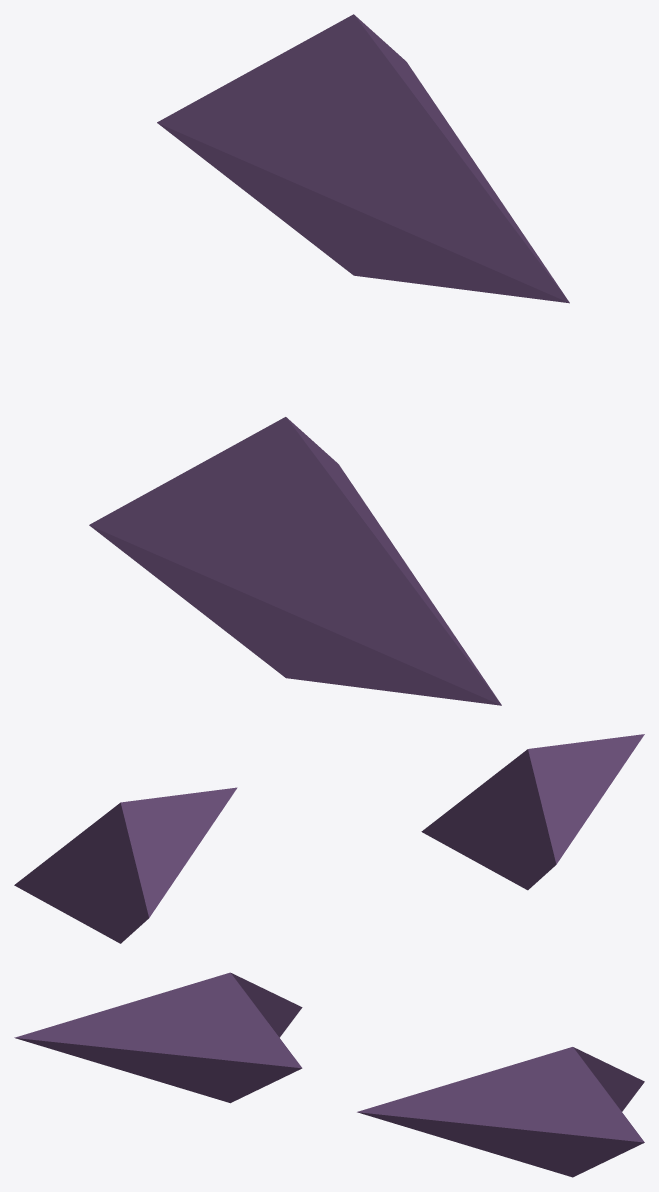
The model's file is BlackBronzeArrowheadStack2.glb.
3 renders of one model, top to bottom at view 1: azimuth 30°, elevation 25°; view 2: azimuth 150°, elevation 25°; view 3: azimuth 270°, elevation 25°, orthographic. The views are drawn at different scales.
Parts seen in each view (by area): view 1: BlackBronzeArrowheadStack2; view 2: BlackBronzeArrowheadStack2; view 3: BlackBronzeArrowheadStack2.
Boxes of the visible parts, box(x1,y1,x2,y2) form: BlackBronzeArrowheadStack2: box(89, 14, 569, 705); BlackBronzeArrowheadStack2: box(14, 734, 644, 943); BlackBronzeArrowheadStack2: box(14, 972, 644, 1177).
Size of the model in its own units: 0.1336 by 0.0606 by 0.2211.
